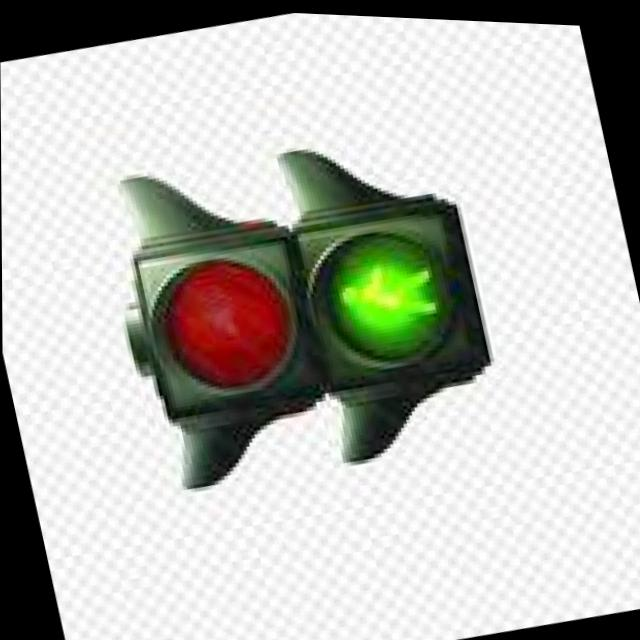green_light: (296, 168, 502, 405)
